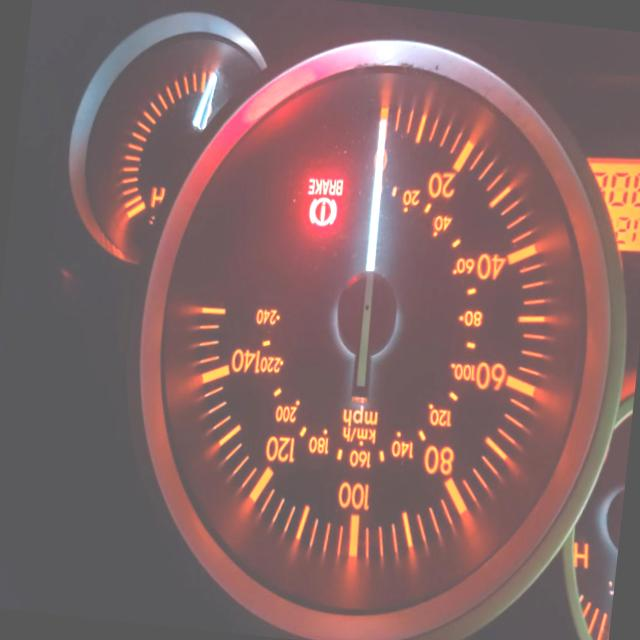kontrolka: (293, 165, 354, 238)
